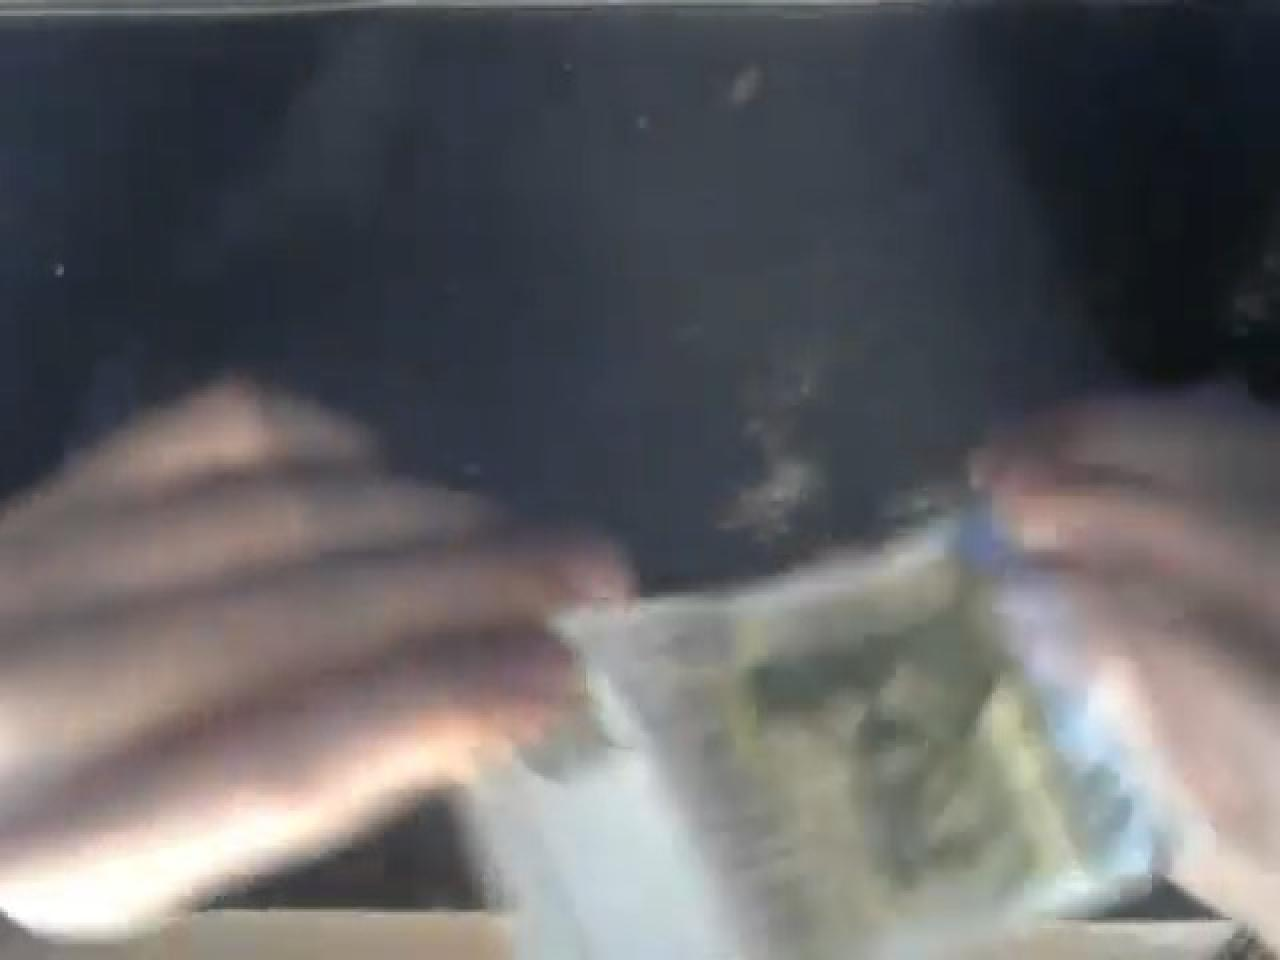10leva: (586, 515, 1182, 960)
